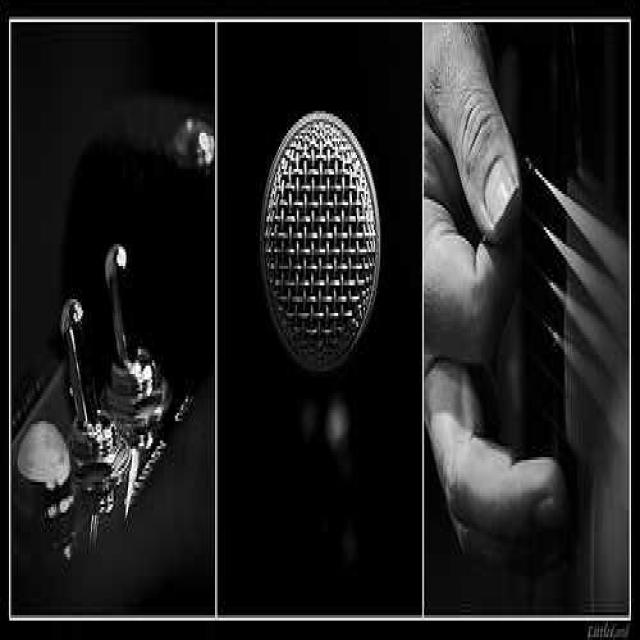microphone: (254, 77, 390, 411)
